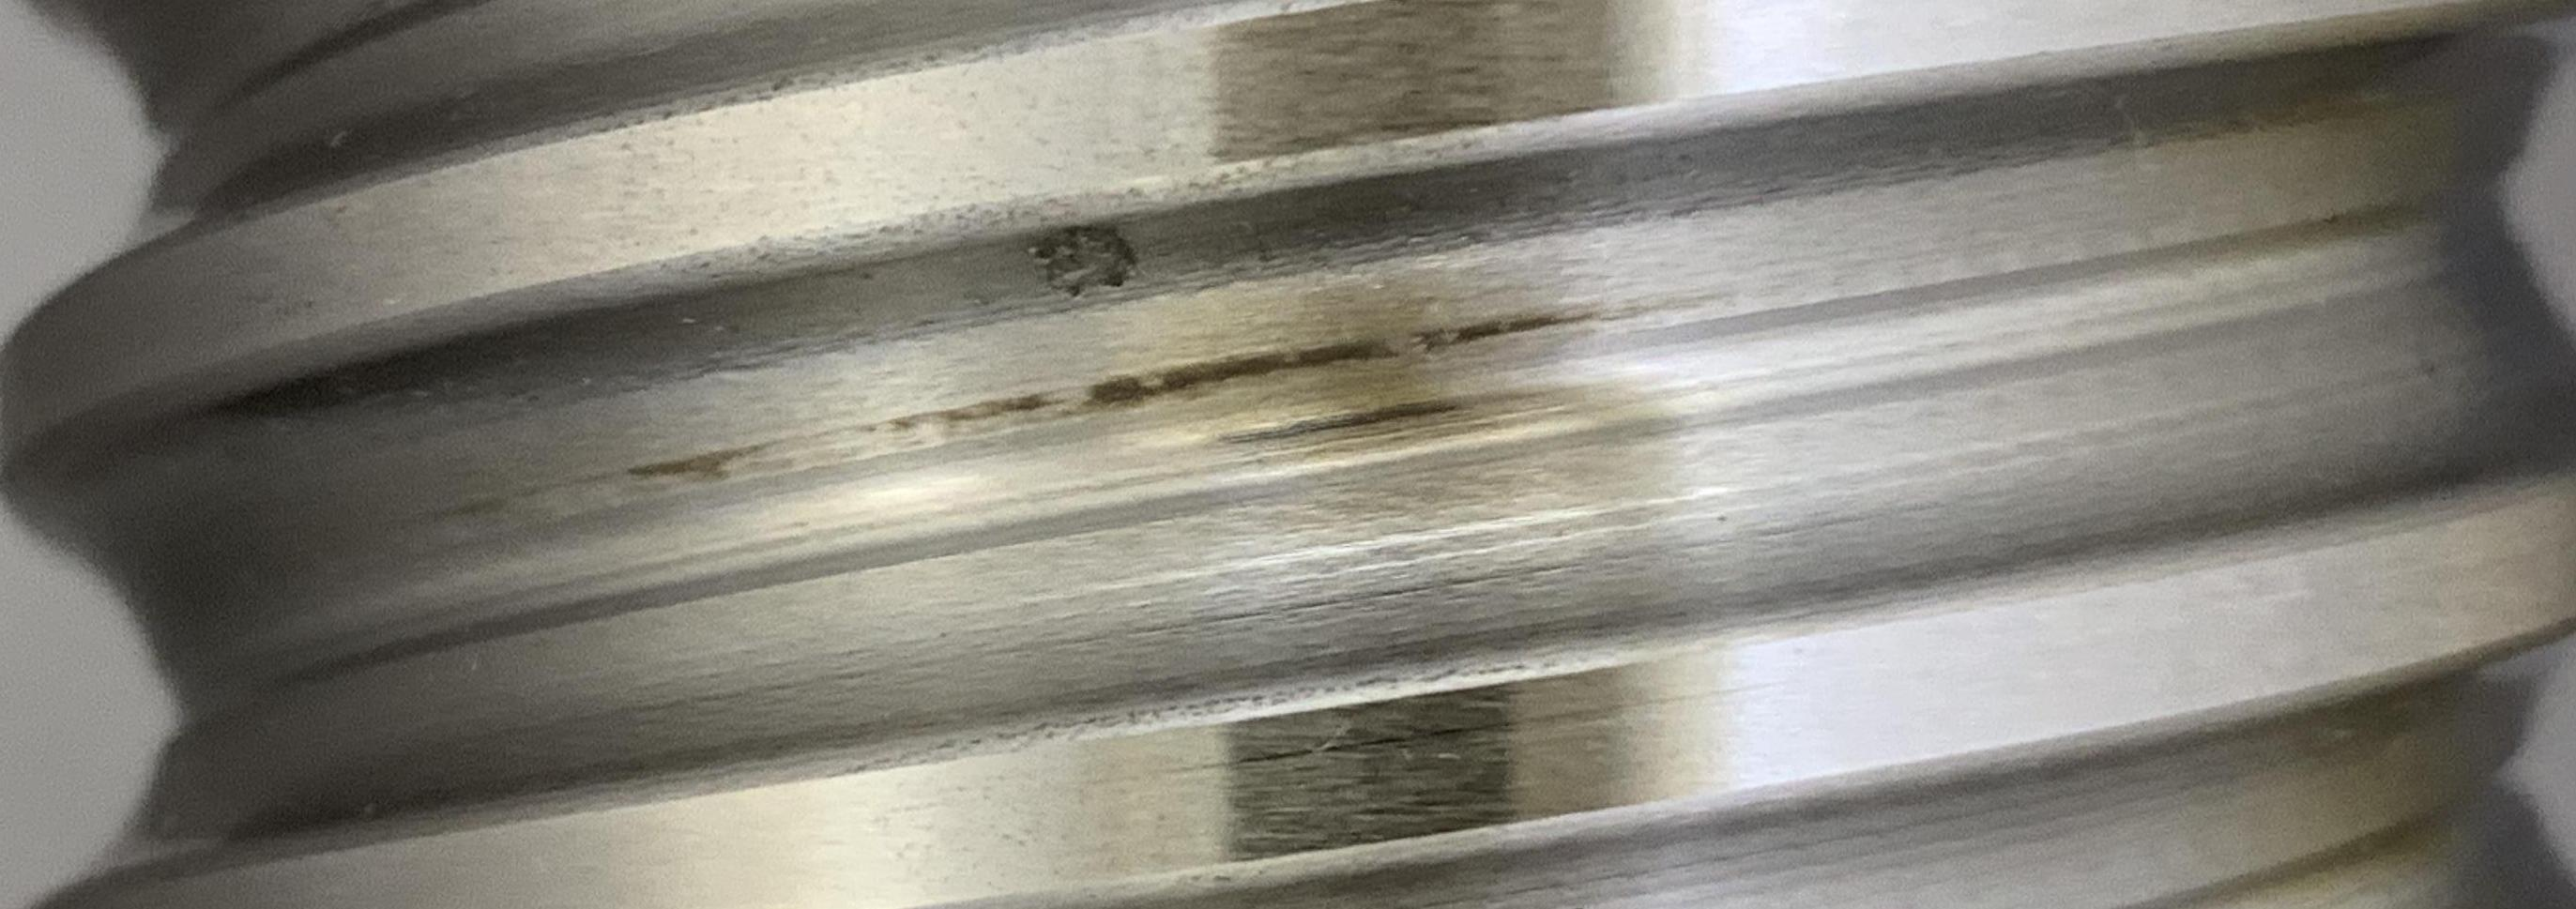pitting: (1025, 225, 1137, 295)
